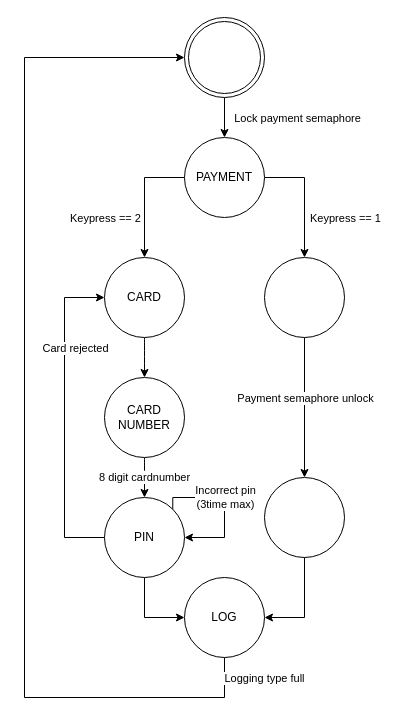
This 398x723 diagram has some shape labels left out. The centre of each missing label's shape, as x and y in pixels:
"CASH" goes at [304,297].
"CHANGE" goes at [304,517].
"START" goes at [224,57].
